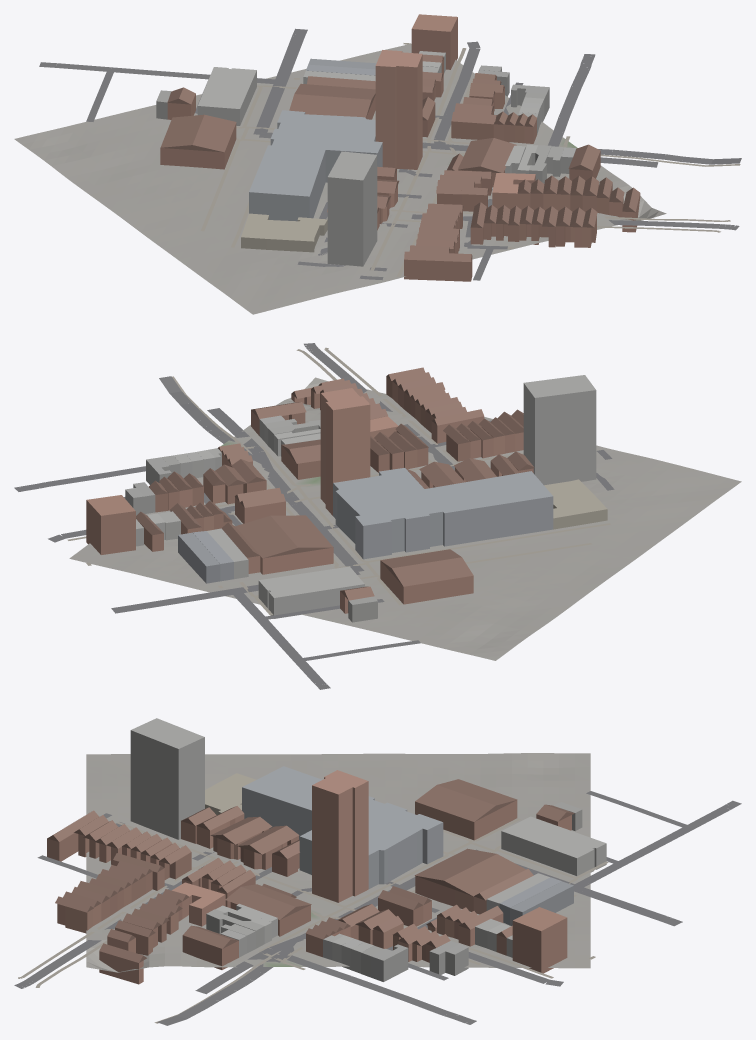
File: tile_-9_5.glb
3 views of the same model, one above another, from view 1: azimuth 30°, elevation 25°; view 2: azimuth 150°, elevation 25°; view 3: azimuth 270°, elevation 25° (orthographic). The views are drawn at different scales.
Visible parts, largest first — view 1: buildings, terrain, roads; view 2: buildings, terrain, roads; view 3: buildings, terrain, roads.
Part boxes in pixels (x1,y1,x2,y2): buildings: (156, 14, 640, 281); terrain: (14, 43, 666, 314); roads: (39, 28, 741, 280); buildings: (86, 367, 607, 622); terrain: (69, 377, 741, 660); roads: (14, 343, 614, 689); buildings: (47, 718, 606, 984); terrain: (86, 753, 590, 972); roads: (14, 791, 741, 1025).
Bounding box in the file's own units: 326 × 70.97 × 369.
